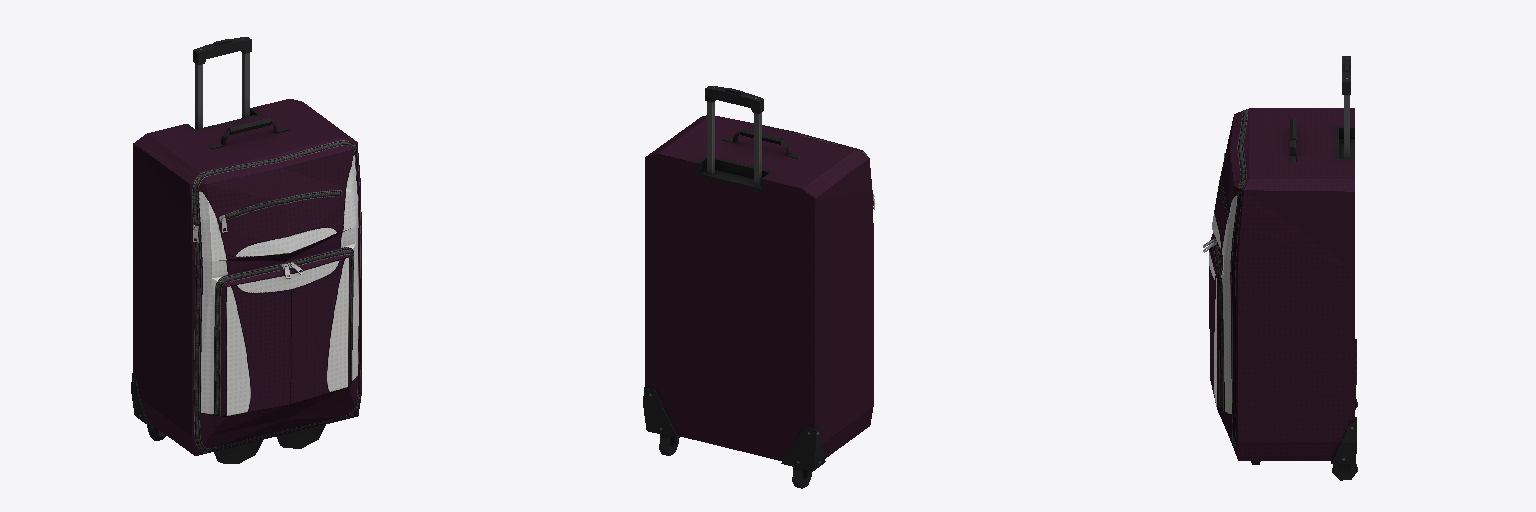
3 renders of one model, left to right at view 1: azimuth 30°, elevation 25°; view 2: azimuth 150°, elevation 25°; view 3: azimuth 270°, elevation 25°, orthographic.
Parts seen in each view (by area): view 1: Luggage_mesh; view 2: Luggage_mesh; view 3: Luggage_mesh.
Part boxes in pixels (x1,y1,x2,y2): Luggage_mesh: (131, 37, 361, 463); Luggage_mesh: (643, 86, 874, 488); Luggage_mesh: (1203, 56, 1357, 480).
Bounding box in the file's own units: 3 × 6.32 × 2.34.
Materials: 1 (1 with a texture image).